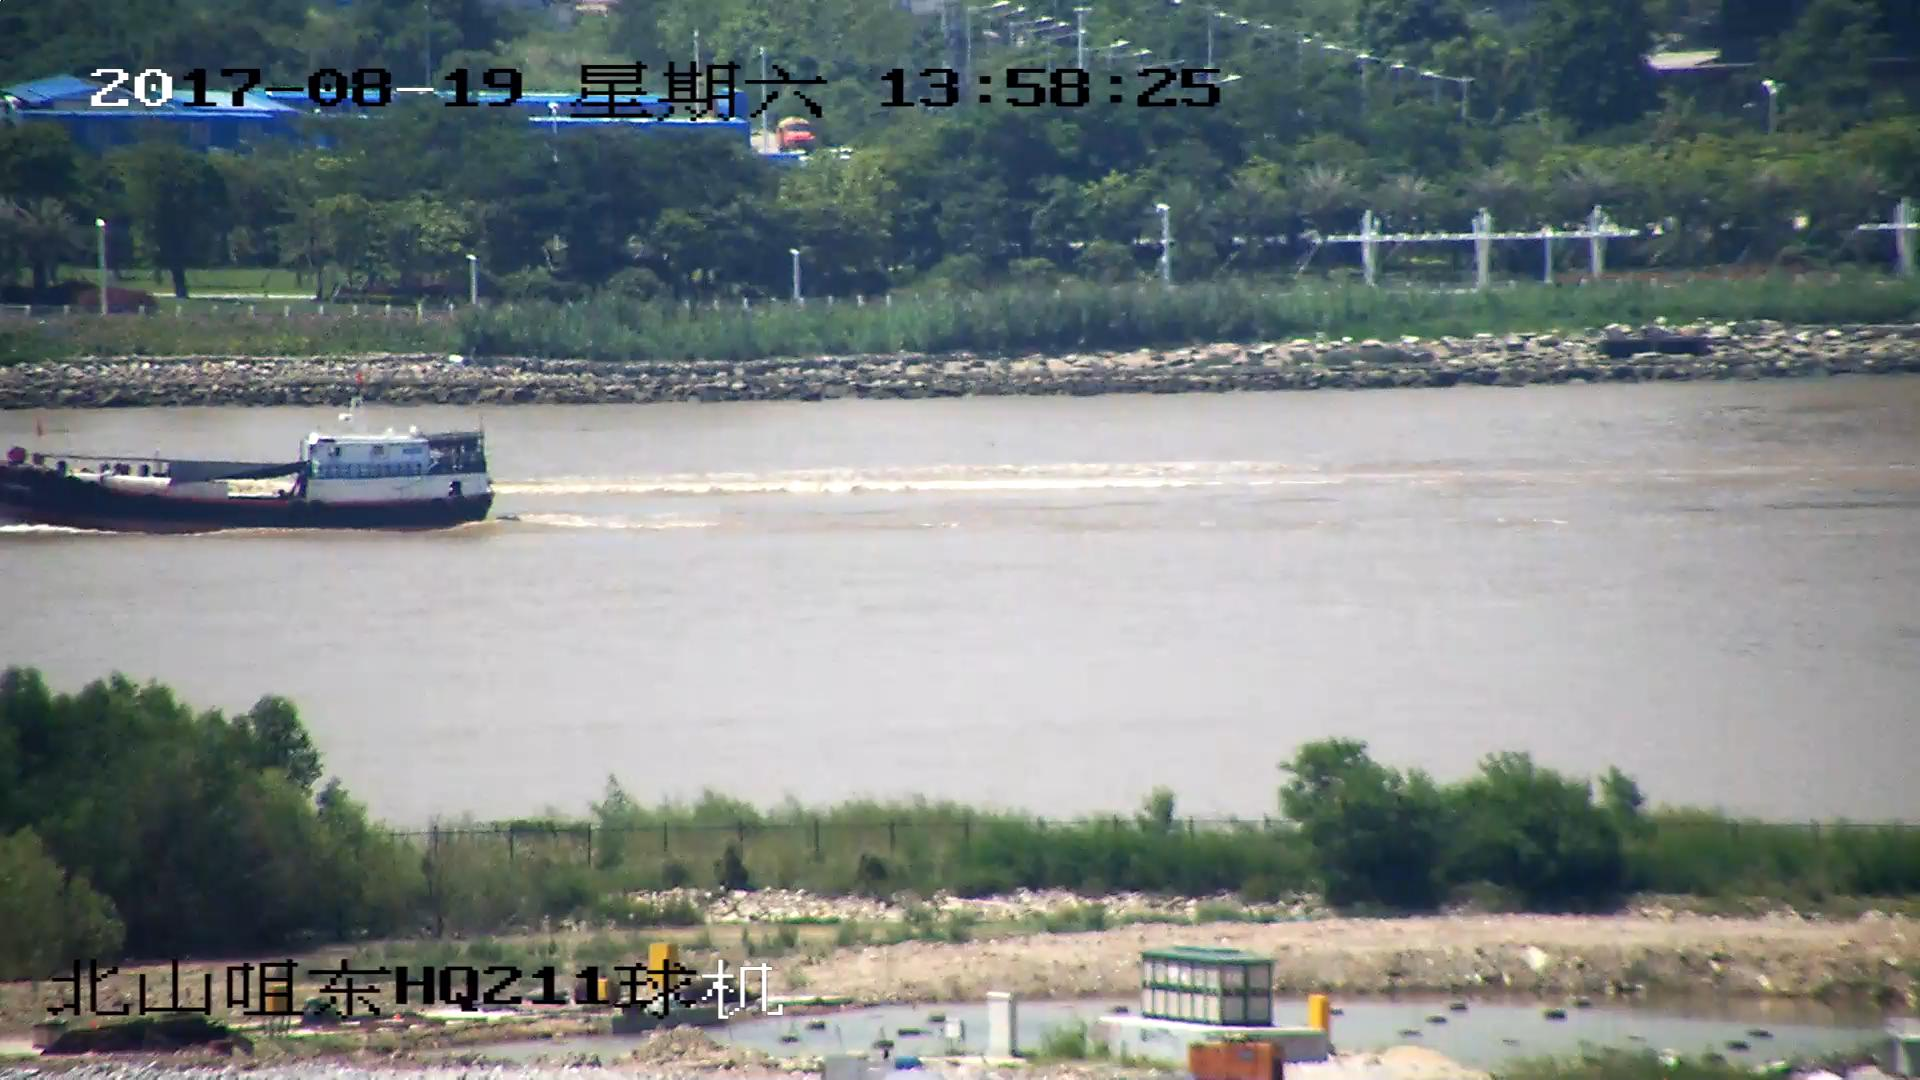fishing boat: (1, 420, 504, 534)
